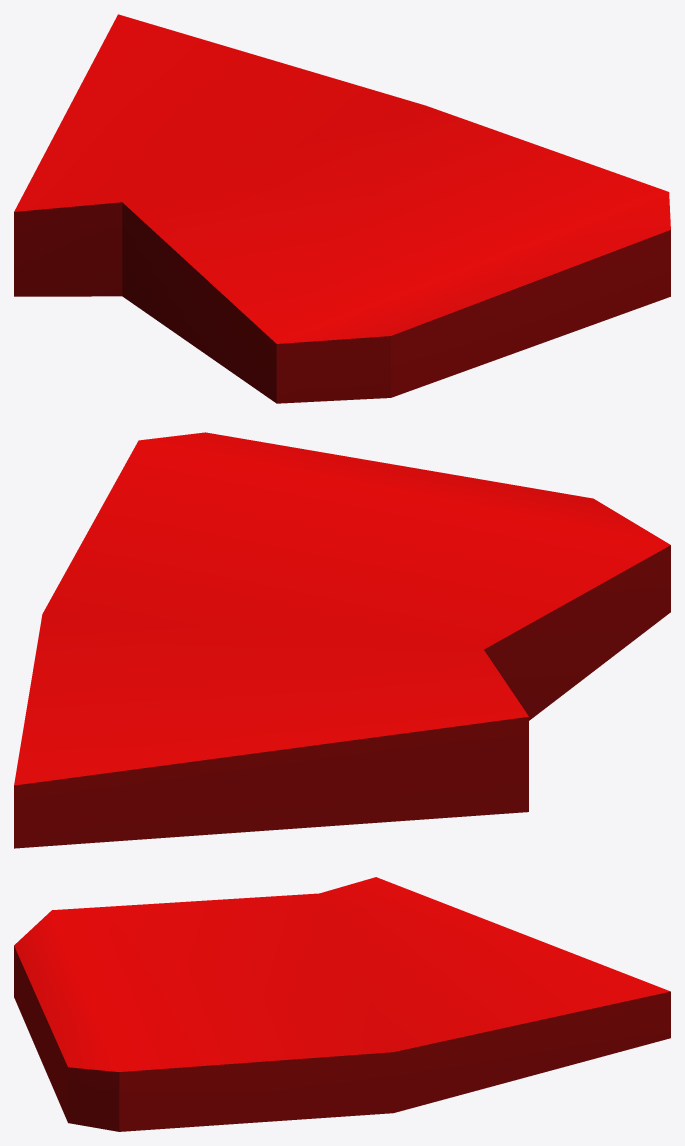
The model's file is geology-landforms-icedrift_v12.fbx.
The picture shows the model from 3 angles, top to bottom: view 1: azimuth 30°, elevation 25°; view 2: azimuth 150°, elevation 25°; view 3: azimuth 270°, elevation 25°; orthographic projection. The views are drawn at different scales.
Parts seen in each view (by area): view 1: IceDrift_v12; view 2: IceDrift_v12; view 3: IceDrift_v12.
Part boxes in pixels (bbox=[...]): IceDrift_v12: bbox=[14, 14, 670, 403]; IceDrift_v12: bbox=[14, 432, 670, 848]; IceDrift_v12: bbox=[14, 877, 670, 1131].
Bounding box in the file's own units: 2.42 × 0.4676 × 3.3.
